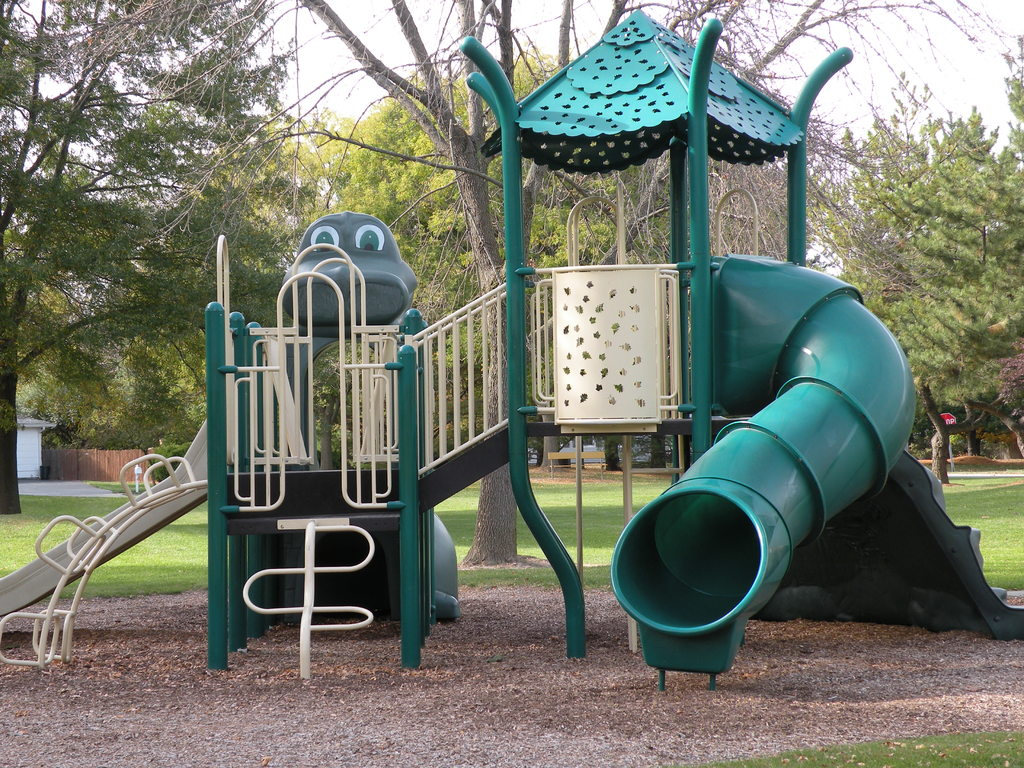Tree: (288, 0, 1007, 573), (106, 107, 675, 466), (0, 0, 290, 515), (812, 31, 1024, 481)
